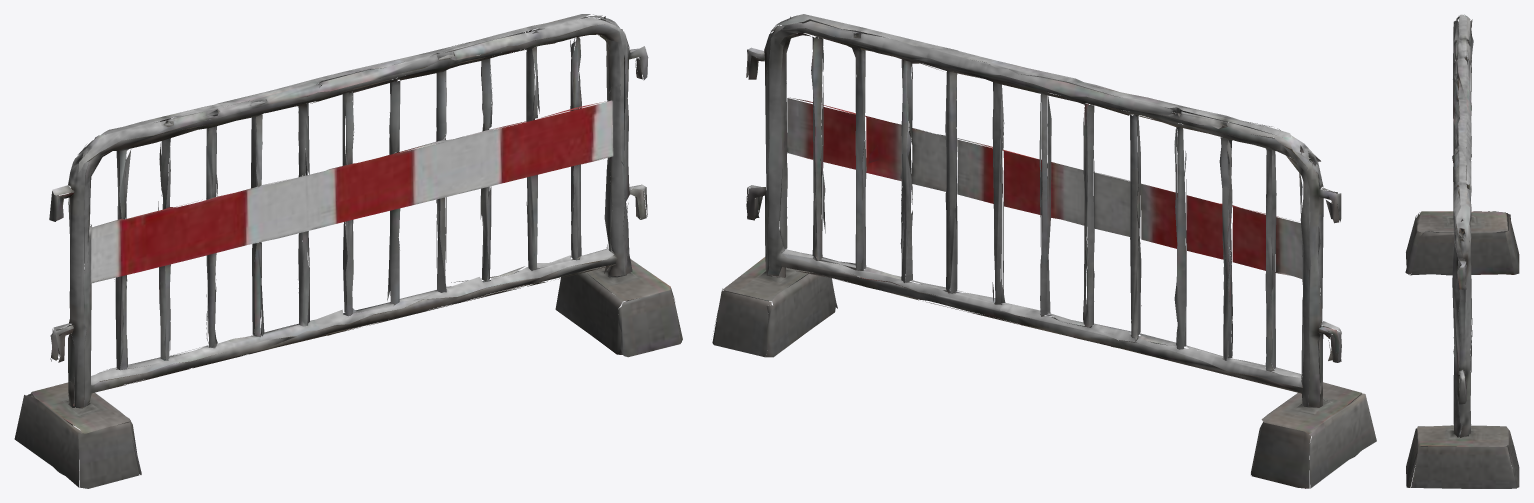
Rendered from stadt_absperrung.glb.
The picture shows the model from 3 angles, left to right: view 1: azimuth 30°, elevation 25°; view 2: azimuth 150°, elevation 25°; view 3: azimuth 270°, elevation 25°; orthographic projection. The views are drawn at different scales.
Parts seen in each view (by area): view 1: Prop; view 2: Prop; view 3: Prop.
Boxes of the visible parts, left/top/right/bottom form: Prop: left=14, top=14, right=682, bottom=488; Prop: left=712, top=14, right=1376, bottom=488; Prop: left=1405, top=14, right=1519, bottom=488.
Size of the model in its own units: 1.98 by 1 by 0.3993.
1 material, 1 textured.
